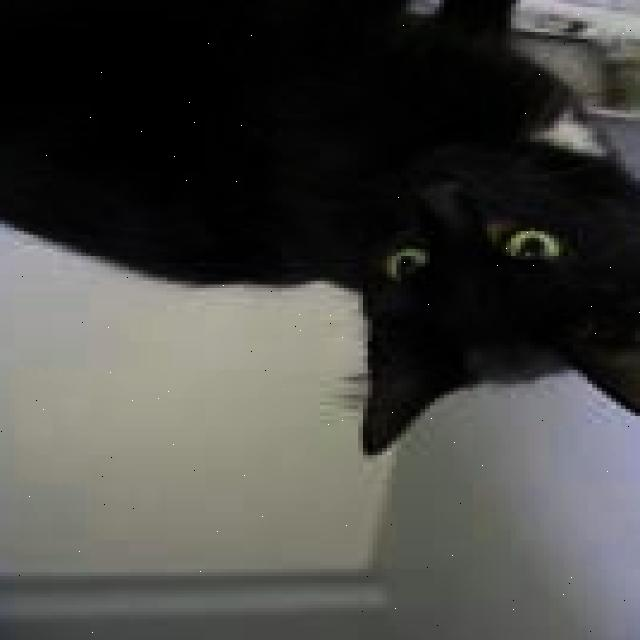Cat: (277, 121, 640, 462)
